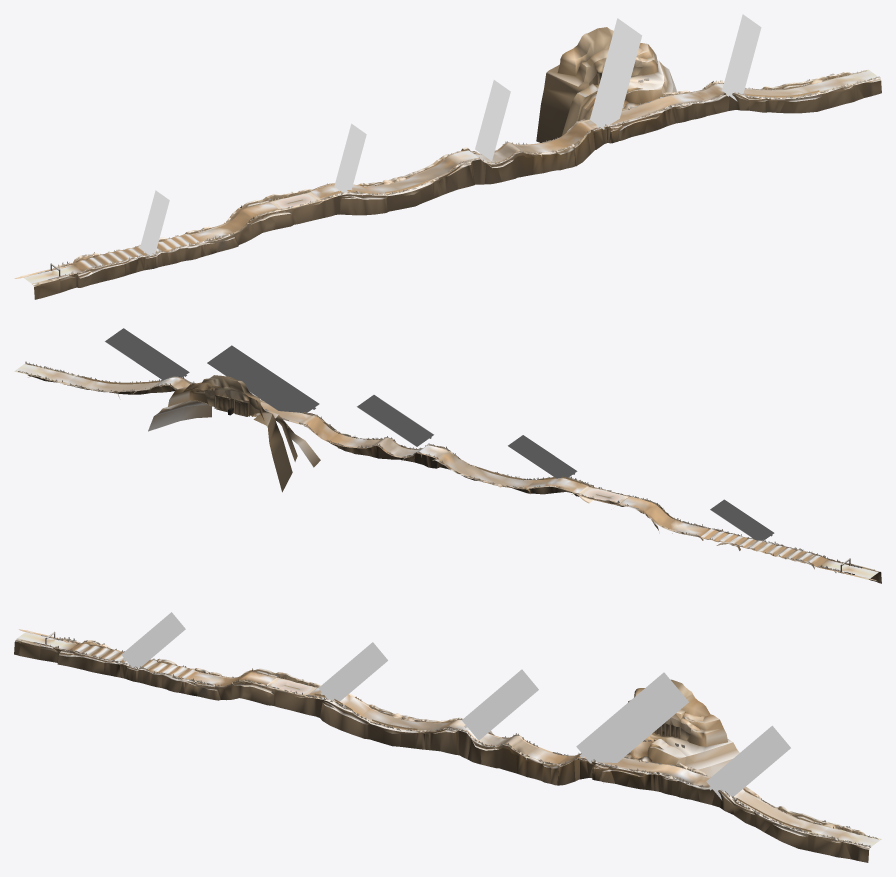
Rendered from Desert_06.fbx.
The picture shows the model from 3 angles, top to bottom: view 1: azimuth 30°, elevation 25°; view 2: azimuth 150°, elevation 25°; view 3: azimuth 330°, elevation 25°; orthographic projection.
Parts seen in each view (by area): view 1: Mountain_01, Light_01, Road_01, Tree_01, Ground_01; view 2: Light_01, Mountain_01, Road_01, Ground_01, Tree_01, Pattern_01; view 3: Mountain_01, Light_01, Road_01, Tree_01, Ground_01, Ground_02.
Boxes of the visible parts, box(x1,y1,x2,y2) form: Mountain_01: box(32, 27, 881, 299); Light_01: box(140, 14, 761, 255); Road_01: box(23, 71, 877, 283); Tree_01: box(52, 70, 880, 277); Ground_01: box(32, 69, 878, 284); Light_01: box(105, 328, 774, 540); Mountain_01: box(16, 364, 881, 583); Road_01: box(16, 364, 877, 578); Ground_01: box(14, 364, 878, 579); Tree_01: box(18, 361, 853, 571); Pattern_01: box(169, 376, 659, 513); Mountain_01: box(14, 638, 879, 862); Light_01: box(121, 612, 790, 799); Road_01: box(18, 632, 879, 846); Tree_01: box(42, 637, 877, 847); Ground_01: box(17, 634, 881, 846); Ground_02: box(19, 629, 835, 828).
Bounding box in the file's own units: 72044 × 9557 × 7847.
